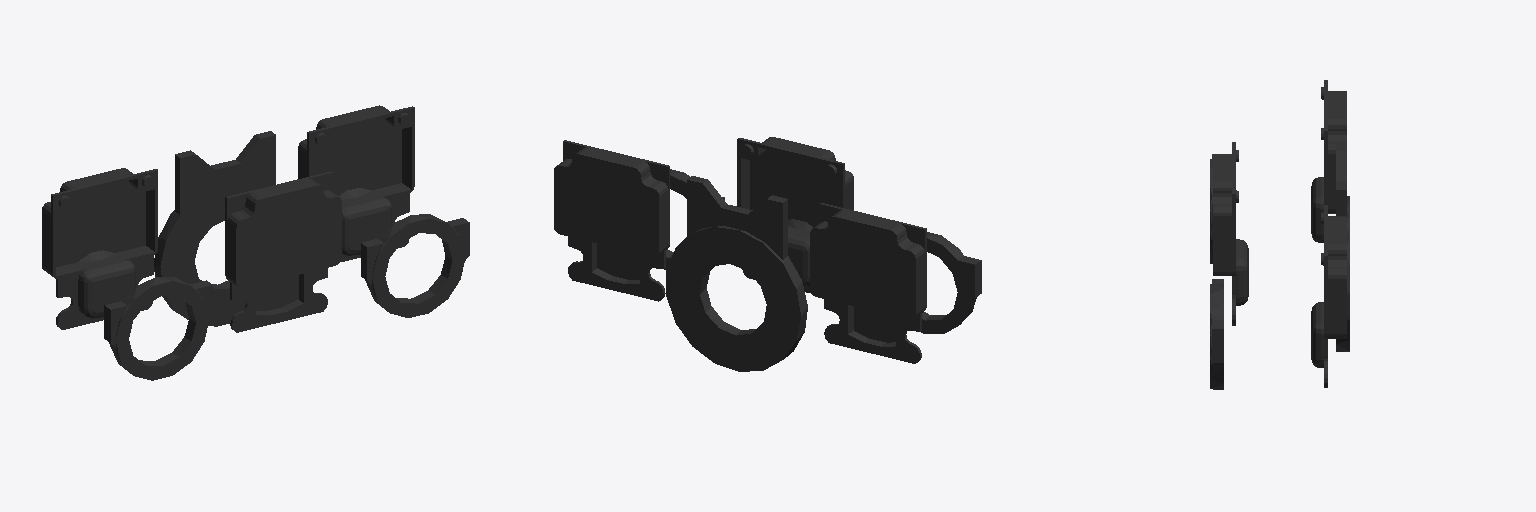
The model's file is Waist_1_mesh_4.obj.
3 renders of one model, left to right at view 1: azimuth 30°, elevation 25°; view 2: azimuth 150°, elevation 25°; view 3: azimuth 270°, elevation 25°, orthographic.
Size of the model in its own units: 0.113 by 0.0531 by 0.0376.